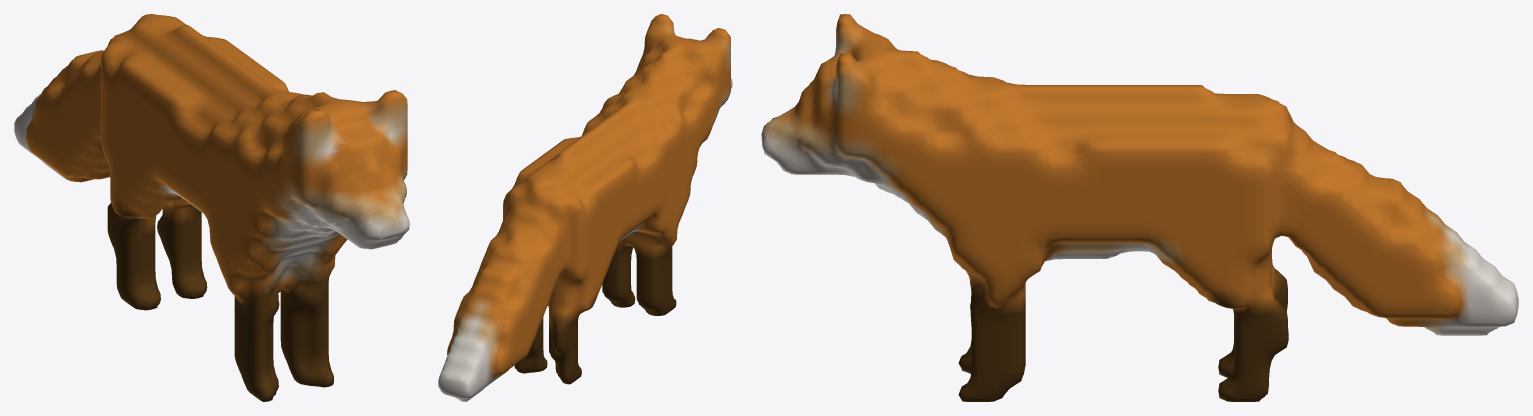
The model's file is Fox_256B_vox.glb.
3 views of the same model, side by side, from view 1: azimuth 30°, elevation 25°; view 2: azimuth 150°, elevation 25°; view 3: azimuth 270°, elevation 25° (orthographic). The views are drawn at different scales.
Parts seen in each view (by area): view 1: shapehash-vox; view 2: shapehash-vox; view 3: shapehash-vox.
Boxes of the visible parts, <box> form: shapehash-vox: <box>14,14,409,401</box>; shapehash-vox: <box>438,14,732,401</box>; shapehash-vox: <box>761,14,1518,401</box>.
Bounding box in the file's own units: 0.3438 × 1.02 × 2.
